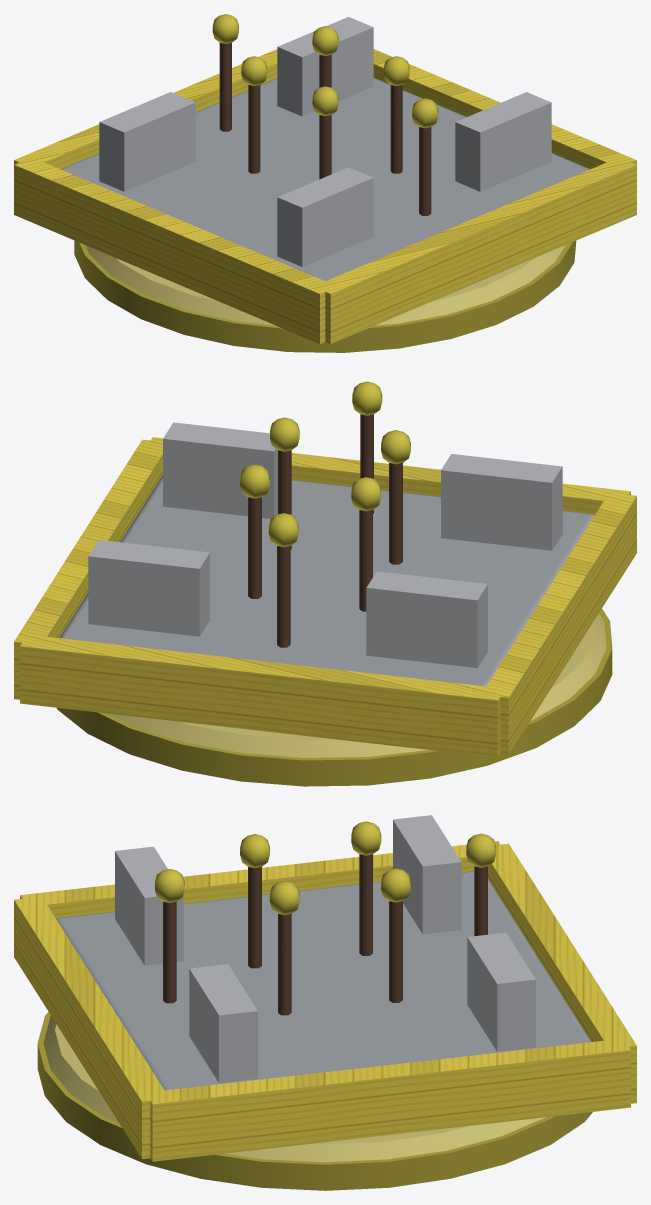
File: tier-05-foundation-kit.glb
3 renders of one model, top to bottom at view 1: azimuth 30°, elevation 25°; view 2: azimuth 150°, elevation 25°; view 3: azimuth 270°, elevation 25°, orthographic. The views are drawn at different scales.
Visible parts, largest first — view 1: matte, wood; view 2: matte, wood; view 3: matte, wood.
Part boxes in pixels (x1,y1,x2,y2): matte: [61, 14, 589, 352]; wood: [14, 49, 636, 344]; matte: [56, 381, 612, 786]; wood: [14, 437, 636, 757]; matte: [37, 815, 592, 1190]; wood: [14, 841, 636, 1161].
Size of the model in its own units: 1.08 by 0.415 by 1.08.
Materials: 2 (1 with a texture image).
